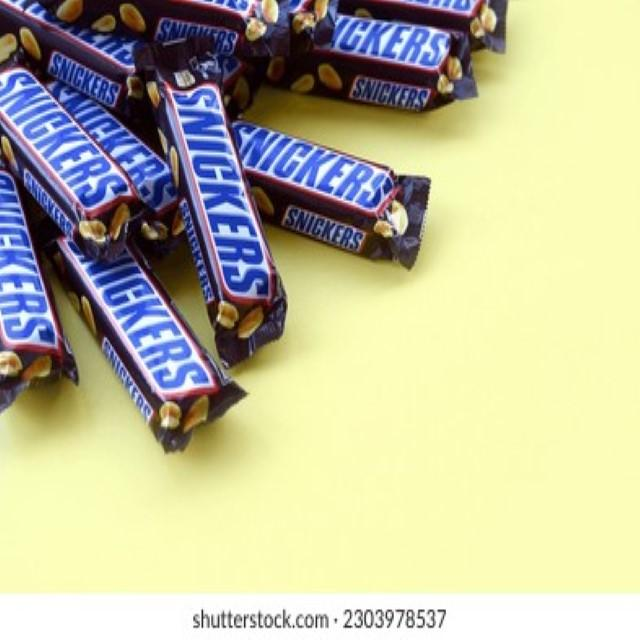snickers_chocolate: (47, 0, 183, 215), (167, 88, 283, 330), (230, 113, 417, 255), (74, 240, 204, 415), (310, 12, 470, 105), (13, 60, 108, 215), (4, 170, 64, 398)
